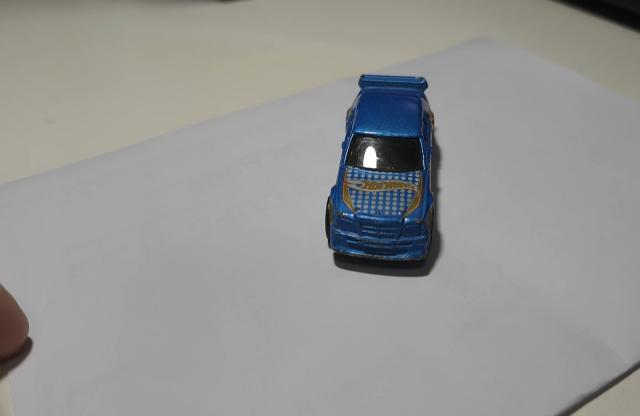04_MERZEDES: (324, 75, 438, 270)
